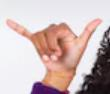clockwise: (4, 13, 105, 70)
